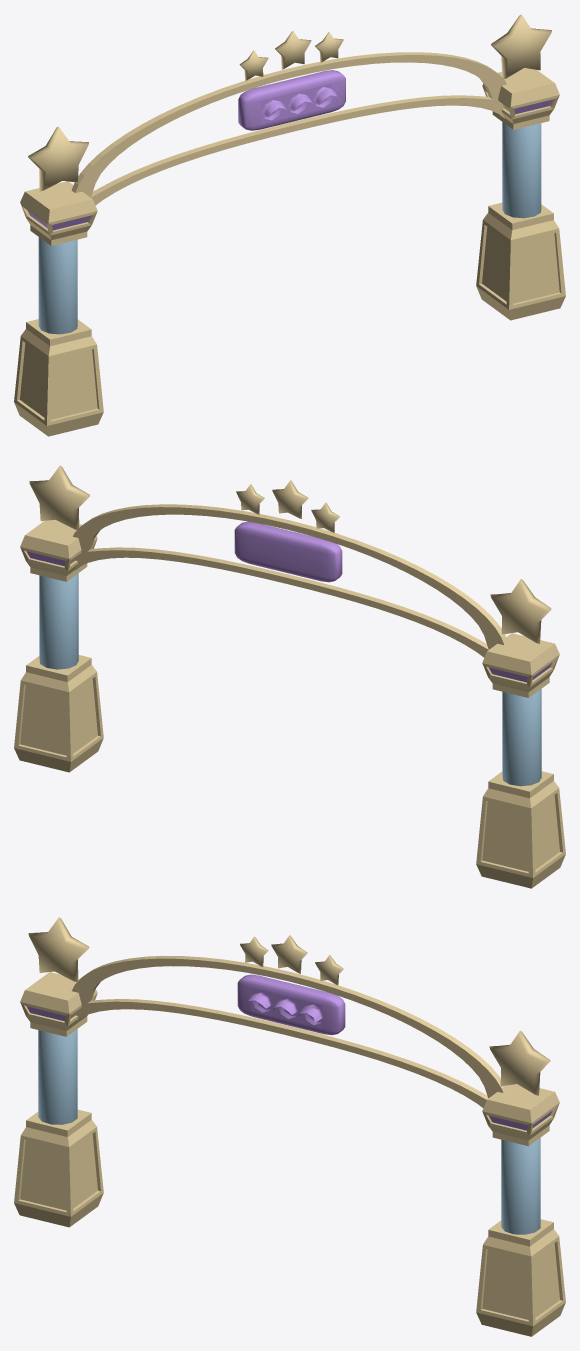
The model's file is arcocarreras.fbx.
3 views of the same model, one above another, from view 1: azimuth 30°, elevation 25°; view 2: azimuth 150°, elevation 25°; view 3: azimuth 330°, elevation 25° (orthographic).
Visible parts, largest first — view 1: Cylinder.002, Cube, Cube.002, Cube.004, Cylinder, Cylinder.006, Cube.001, Cube.003, Cylinder.001, Cylinder.005, Cylinder.008; view 2: Cylinder.002, Cube.002, Cube, Cube.004, Cylinder, Cylinder.006, Cube.001, Cube.003, Cylinder.001, Cylinder.005, Cylinder.008; view 3: Cylinder.002, Cube, Cube.002, Cube.004, Cylinder.006, Cylinder, Cube.003, Cube.001, Cylinder.001, Cylinder.005, Cylinder.008.
Boxes of the visible parts, bbox=[...] form: Cylinder.002: bbox=[71, 52, 506, 205]; Cube: bbox=[14, 319, 103, 436]; Cube.002: bbox=[476, 202, 565, 320]; Cube.004: bbox=[238, 70, 345, 130]; Cylinder: bbox=[38, 237, 77, 334]; Cylinder.006: bbox=[502, 122, 541, 218]; Cube.001: bbox=[20, 181, 97, 245]; Cube.003: bbox=[482, 68, 559, 129]; Cylinder.001: bbox=[28, 126, 88, 191]; Cylinder.005: bbox=[491, 14, 551, 78]; Cylinder.008: bbox=[275, 31, 311, 69]; Cylinder.002: bbox=[73, 504, 508, 657]; Cube.002: bbox=[14, 655, 103, 772]; Cube: bbox=[476, 771, 565, 888]; Cube.004: bbox=[234, 521, 342, 582]; Cylinder: bbox=[502, 689, 541, 786]; Cylinder.006: bbox=[39, 573, 78, 669]; Cube.001: bbox=[482, 633, 559, 697]; Cube.003: bbox=[20, 519, 97, 581]; Cylinder.001: bbox=[490, 579, 551, 643]; Cylinder.005: bbox=[29, 465, 90, 529]; Cylinder.008: bbox=[272, 480, 308, 518]; Cylinder.002: bbox=[72, 955, 506, 1108]; Cube: bbox=[14, 1109, 103, 1227]; Cube.002: bbox=[476, 1219, 565, 1336]; Cube.004: bbox=[237, 974, 345, 1035]; Cylinder.006: bbox=[501, 1138, 540, 1234]; Cylinder: bbox=[38, 1029, 77, 1124]; Cube.003: bbox=[482, 1084, 559, 1146]; Cube.001: bbox=[20, 972, 97, 1036]; Cylinder.001: bbox=[28, 917, 89, 981]; Cylinder.005: bbox=[489, 1030, 550, 1095]; Cylinder.008: bbox=[271, 935, 307, 973].
Size of the model in its own units: 2473 by 1508 by 269.
